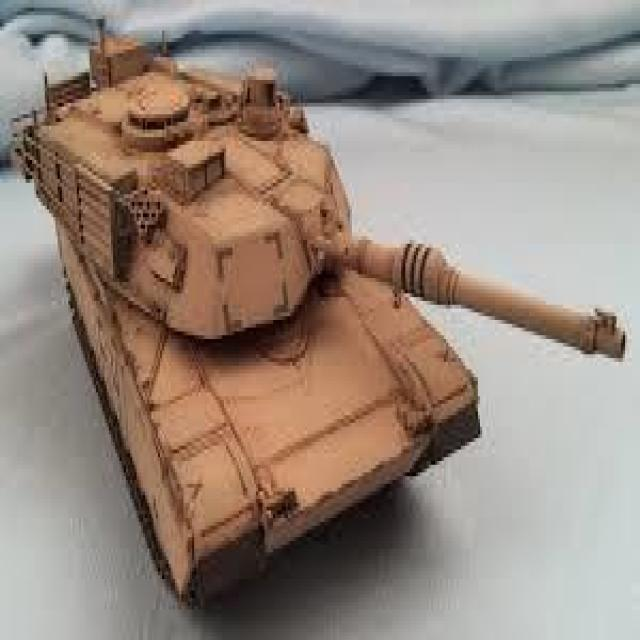Tanks: (22, 34, 624, 606)
